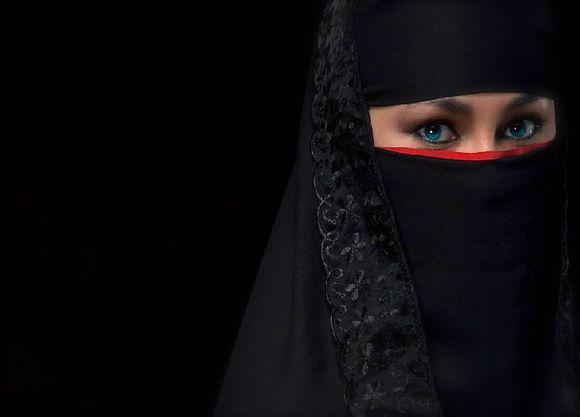OK: (373, 83, 565, 263)
